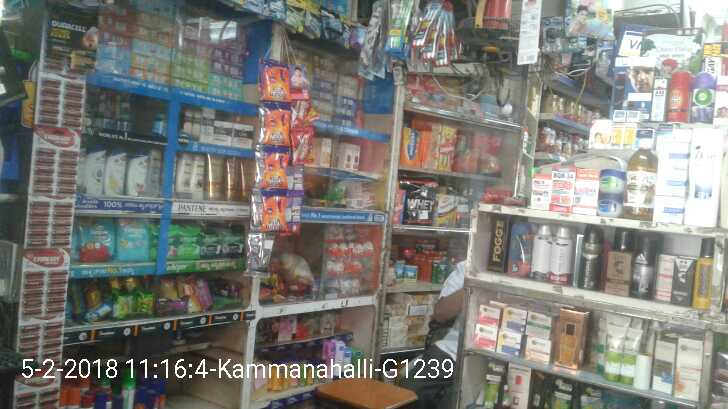beauty: (126, 146, 149, 199), (104, 141, 125, 195), (86, 139, 104, 199), (205, 153, 224, 203), (239, 160, 257, 204), (177, 152, 192, 202), (225, 156, 240, 203), (182, 106, 202, 141), (233, 121, 256, 149), (193, 152, 204, 200), (202, 104, 215, 143), (215, 121, 234, 146)
pharmacy: (73, 216, 117, 259), (120, 217, 149, 264), (166, 218, 196, 259)
